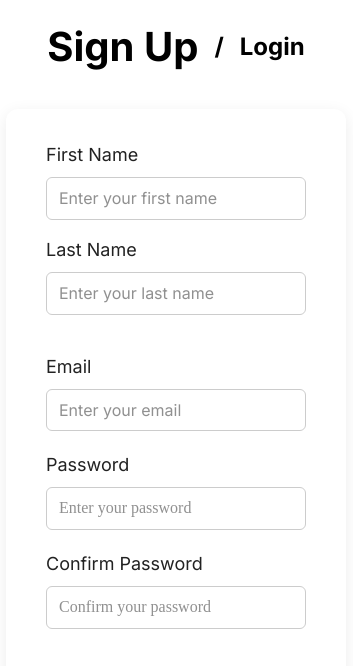
Login Component › switches back to signup form when signup tab is clicked
The width and height of the screenshot is (353, 666).
Click the button "Login" at (272, 47), box left=240, top=29, right=305, bottom=65
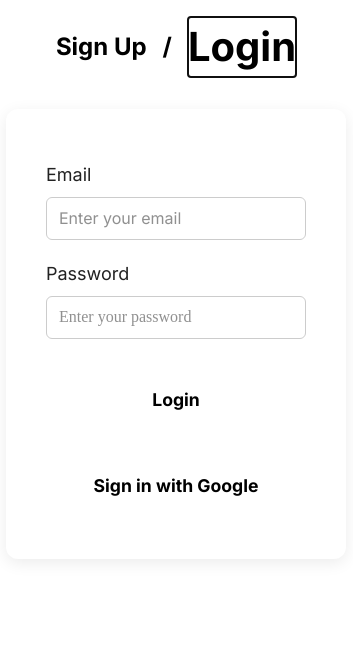
Click the button "Sign Up" at (101, 47), box left=56, top=29, right=147, bottom=65
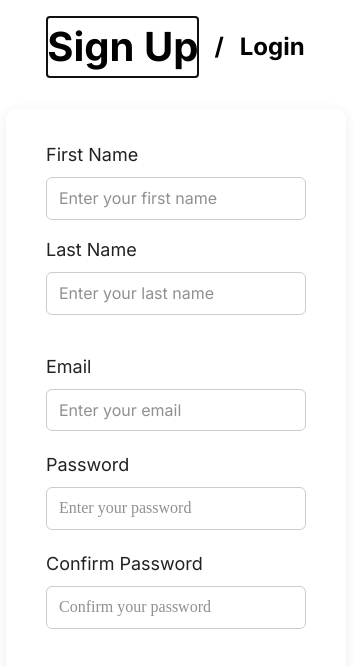
Now the field with placeholder "Enter your first name" is shown, box left=46, top=177, right=306, bottom=220
Now the password field with placeholder "Confirm your password" is shown, box left=46, top=586, right=306, bottom=629
